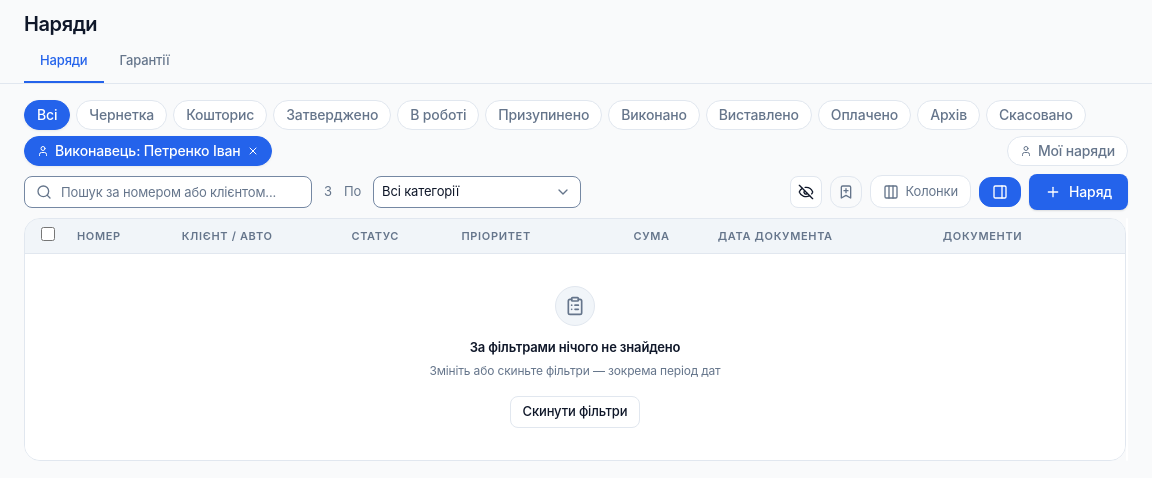
Scenario: Наряди — фільтр виконавця з адреси (звіт «Наряди») › «Мої наряди» замінює фільтр виконавця на свого працівника
Click the button "Мої наряди". click: coordinates (1067, 150)
box: [1007,136,1128,166]
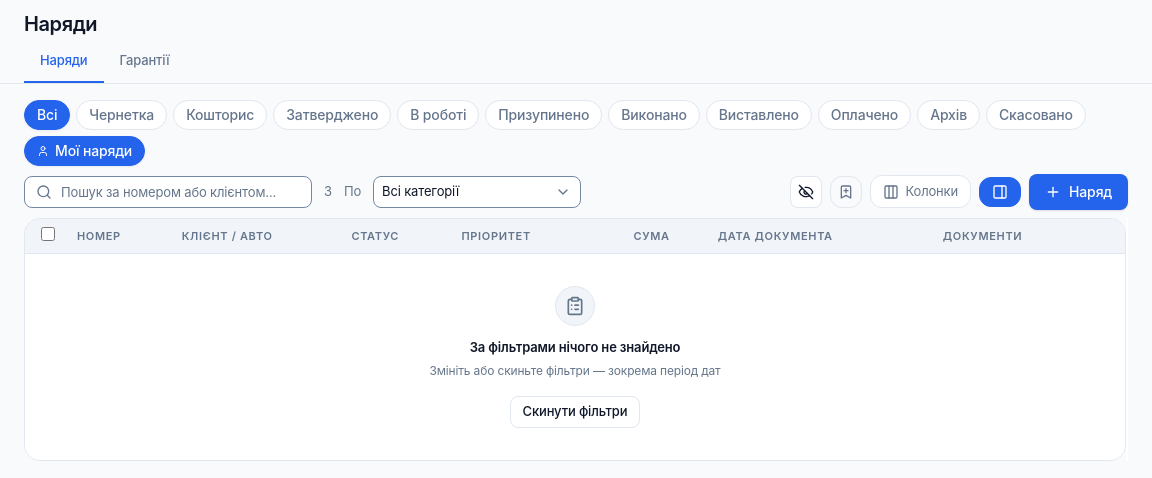
Now the button with test id "wo-executor-filter" is gone
